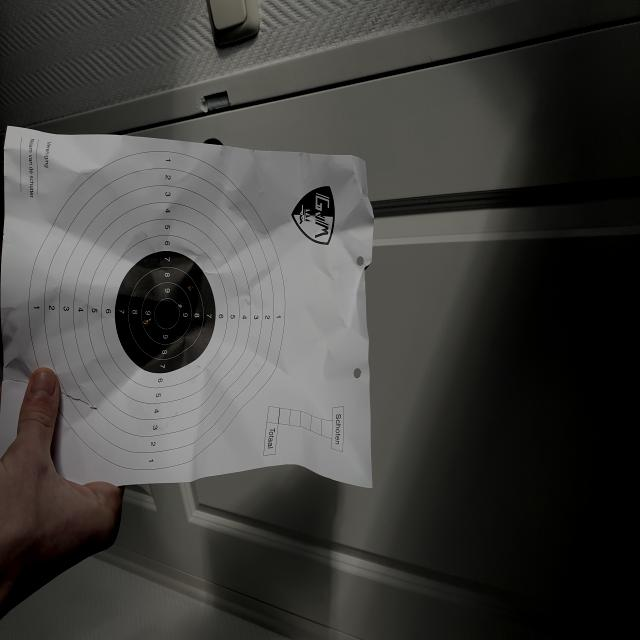10: (176, 301, 184, 311)
8: (187, 283, 193, 292)
9: (140, 316, 153, 328)
Target: (28, 152, 286, 473)
black_contour: (115, 252, 216, 374)
